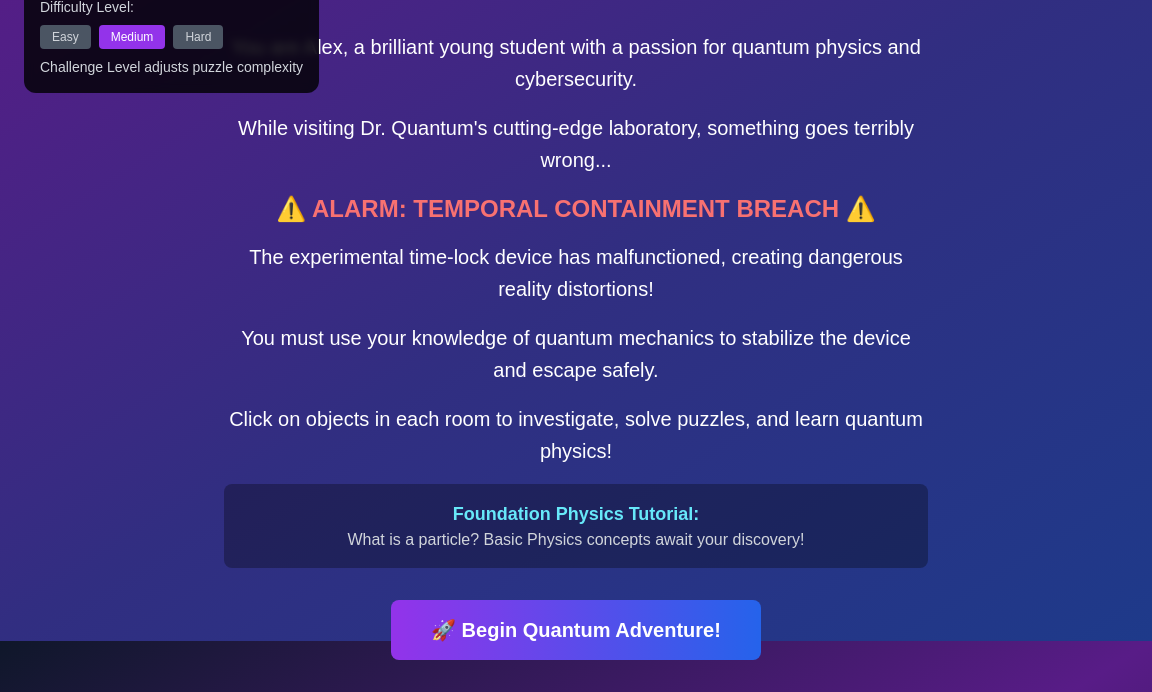
Test case: QuantumEscapeRoomEnhanced › Room Navigation and Progression › starts in the laboratory room
The width and height of the screenshot is (1152, 692).
(page scrolled)
Click the button "🚀 Begin Quantum Adventure!". click: (576, 630)
box: [391,600,761,660]
(page scrolled)
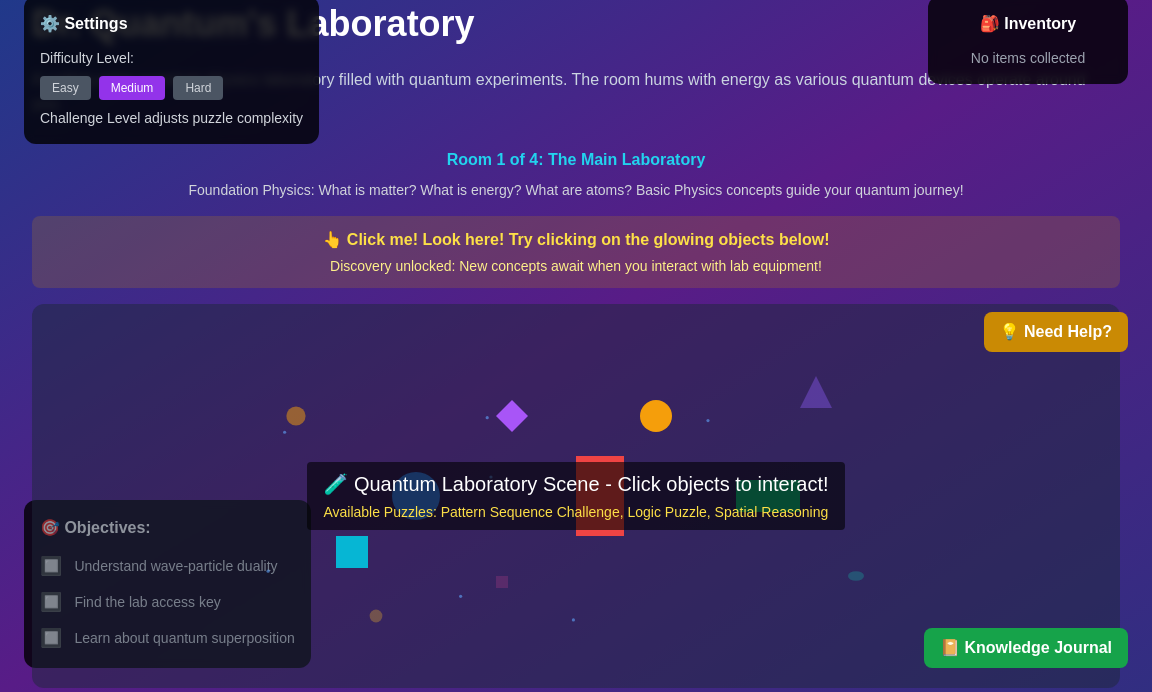
Expected: the heading "Dr. Quantum's Laboratory" is shown, [32,3,475,44]
Expected: the text "A cutting-edge quantum physics laboratory" is shown, [32,71,1086,112]
